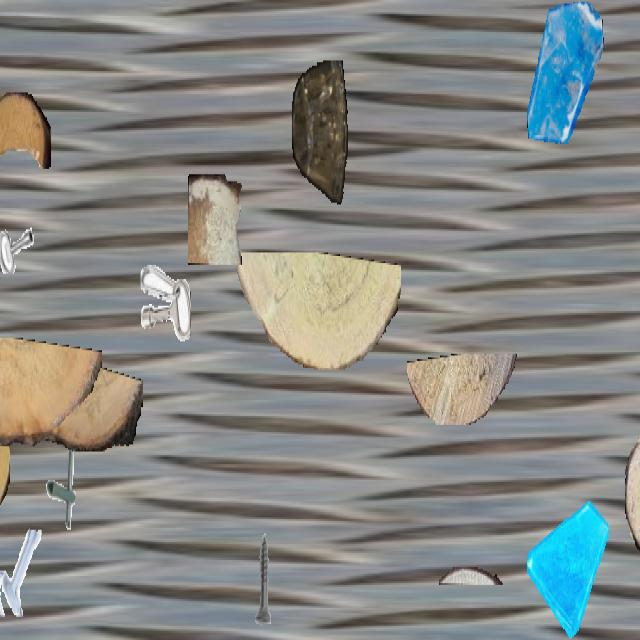glass: (527, 492, 609, 638), (525, 2, 605, 144)
metal: (236, 530, 290, 626), (38, 439, 90, 532), (140, 262, 190, 351), (0, 528, 44, 617), (0, 176, 38, 272)
plastic: (292, 60, 348, 206)
wood: (230, 252, 400, 370), (0, 359, 142, 452), (0, 338, 102, 448), (407, 354, 519, 425), (188, 174, 242, 263), (0, 92, 50, 170), (625, 423, 640, 565), (439, 567, 503, 585), (0, 444, 10, 526)
